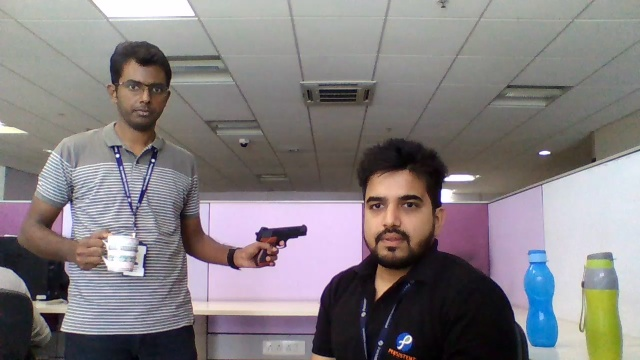gun: (255, 223, 310, 247)
